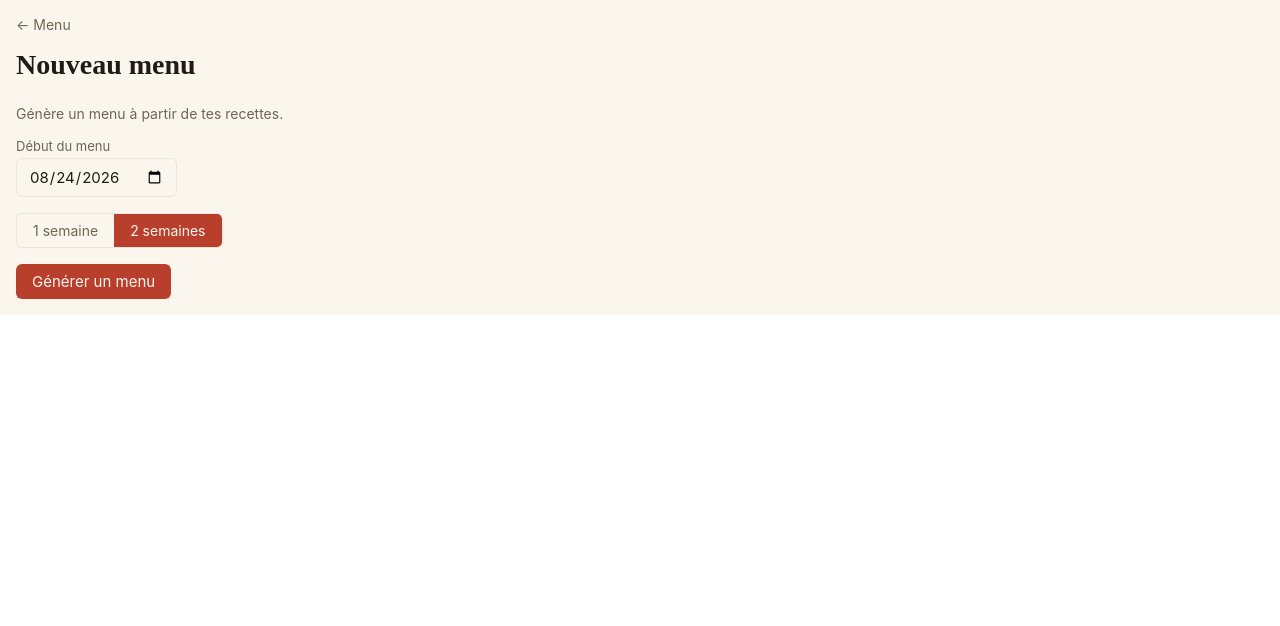
Test case: MenuCreateContainer › sélectionner « 1 semaine » puis Générer → generateMenu avec 7 jours
Click the button "1 semaine". click: (66,230)
box: 17,214 -> 114,247
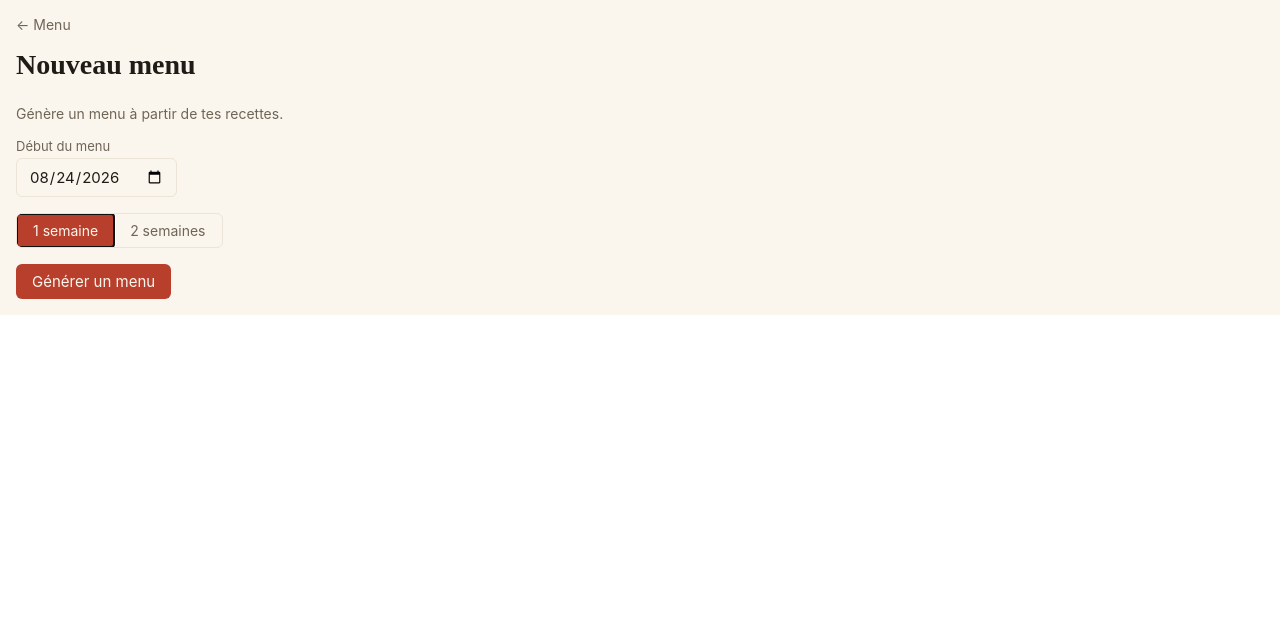
Now the button "1 semaine" is pressed, box 17,214 -> 114,247
Click the button "Générer un menu". click: (94,282)
box: 16,264 -> 171,299
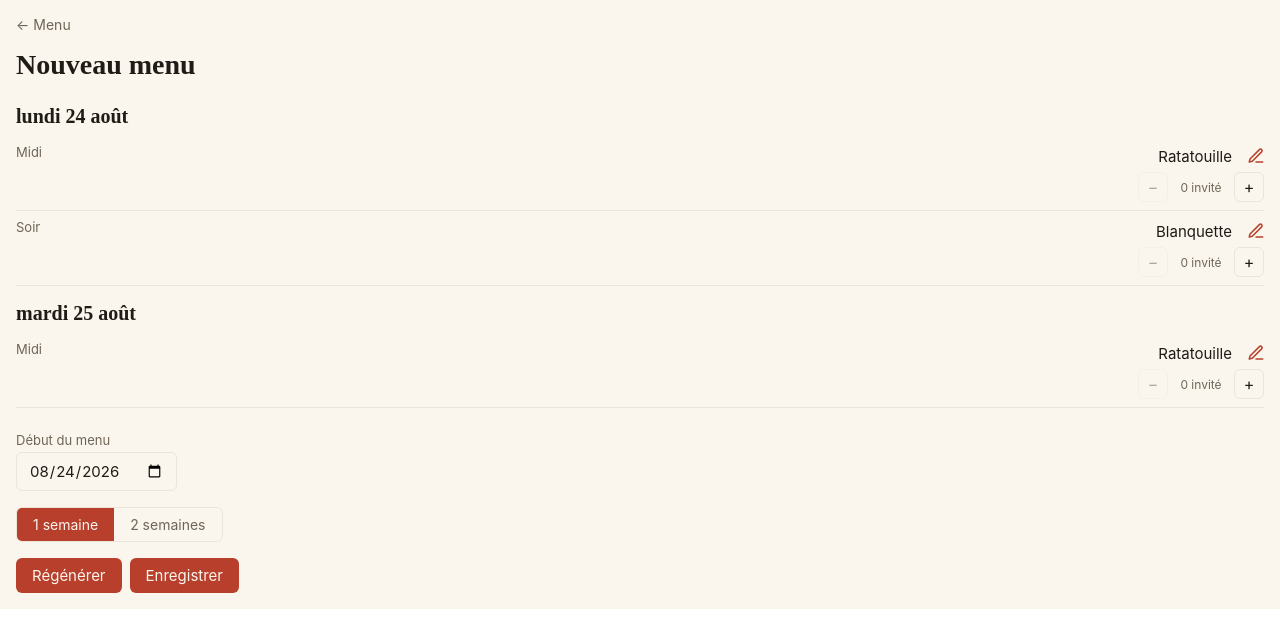
Now the heading "lundi 24 août" is shown, box 16,105 -> 128,127
